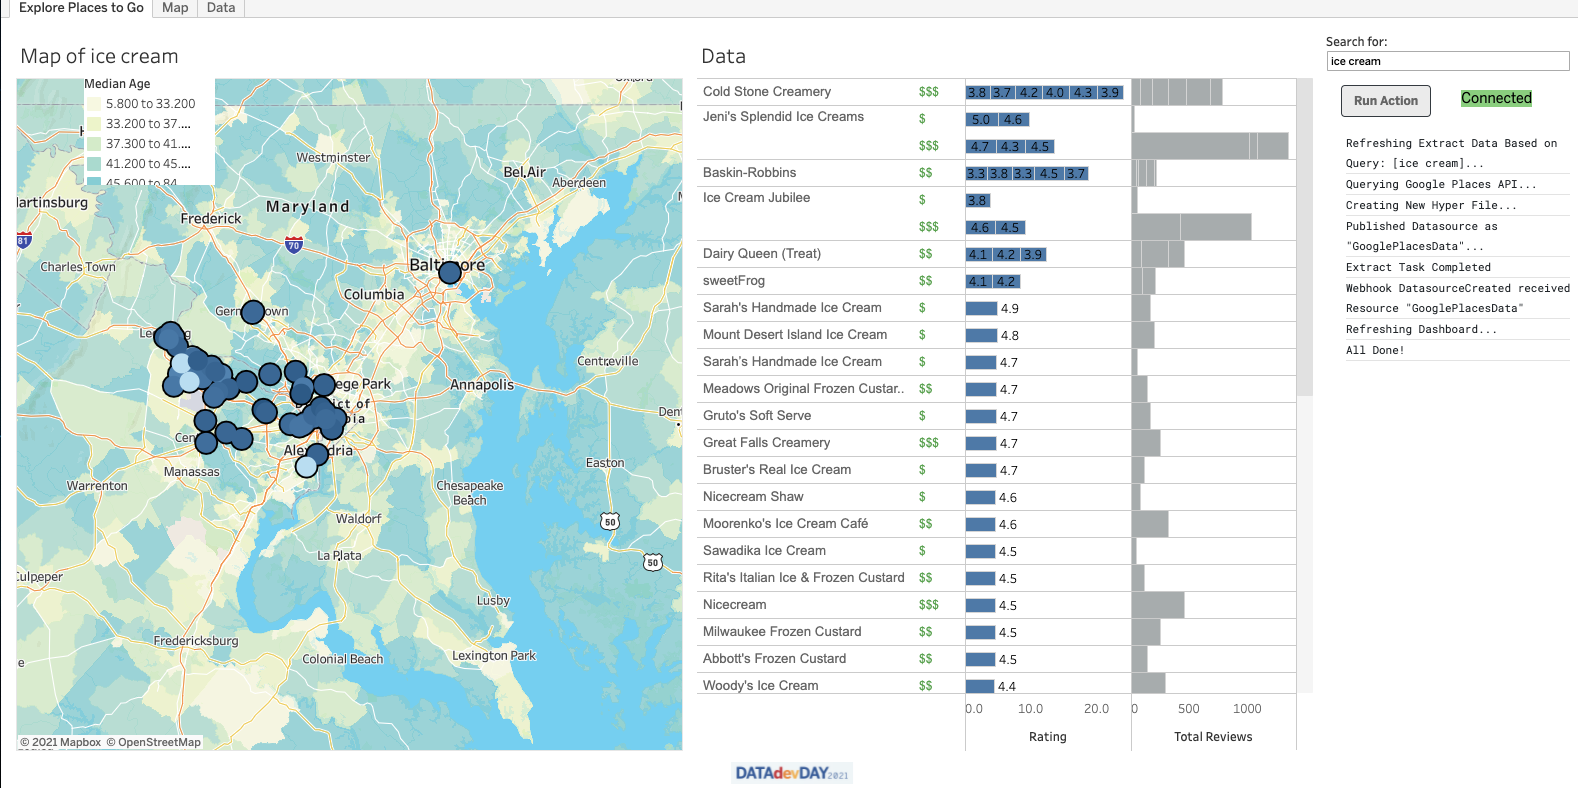

The dashboard page shown, as its layout file describes it:
{"tool":"tableau","page":{"name":"Explore Places to Go","canvas":[1000,1000],"units":"permille","ordinal":0},"visuals":[{"type":"worksheet","box":[0,0,1000,1000]},{"type":"worksheet","param":"horz","box":[5.1,8.9,989.9,943.5]},{"type":"worksheet","param":"horz","box":[5.1,8.9,888.7,943.5]},{"type":"worksheet","param":"horz","box":[5.1,8.9,888.7,943.5]},{"type":"worksheet","box":[5.1,8.9,544,943.5]},{"type":"worksheet","title":"Map","mark":"Circle","rows":["geometry.location.lat"],"cols":["geometry.location.lng"],"box":[5.1,8.9,544,943.5]},{"type":"worksheet","param":"vert","box":[549,8.9,344.7,943.5]},{"type":"worksheet","title":"Data","mark":"Bar","rows":["name","Calculation_5216857260342837248"],"cols":["rating","user_ratings_total"],"box":[549,8.9,344.7,943.5]},{"type":"worksheet","param":"vert","box":[893.7,8.9,101.2,943.5]},{"type":"worksheet","param":"[Parameters].[Parameter 1]","box":[893.7,8.9,101.2,100.9]},{"type":"worksheet","title":"Map","mark":"Circle","rows":["geometry.location.lat"],"cols":["geometry.location.lng"],"box":[52.5,71,82.9,141.9]},{"type":"worksheet","param":"Image/datadevday.png","box":[5.1,952.3,989.9,38.8]}]}

Visuals, with their boxes on the dashboard's canvas, which has no fixed pixel size, in thousandths of its width and height (x1, y1, x2, y2). These are canvas units, not pixel positions in the 1578x788 screenshot, which may show the page scaled, cropped or inside an application window:
worksheet: <bbox>0, 0, 1000, 1000</bbox>
worksheet: <bbox>5, 9, 995, 952</bbox>
worksheet: <bbox>5, 9, 894, 952</bbox>
worksheet: <bbox>5, 9, 894, 952</bbox>
worksheet: <bbox>5, 9, 549, 952</bbox>
"Map" worksheet (Circle marks): <bbox>5, 9, 549, 952</bbox>
worksheet: <bbox>549, 9, 894, 952</bbox>
"Data" worksheet (Bar marks): <bbox>549, 9, 894, 952</bbox>
worksheet: <bbox>894, 9, 995, 952</bbox>
worksheet: <bbox>894, 9, 995, 110</bbox>
"Map" worksheet (Circle marks): <bbox>52, 71, 135, 213</bbox>
worksheet: <bbox>5, 952, 995, 991</bbox>
